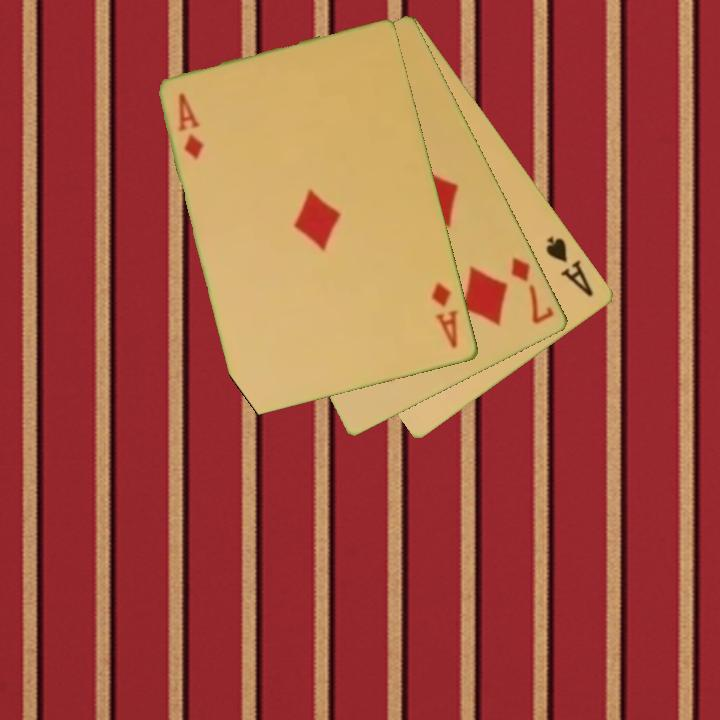7d: (508, 254, 558, 327)
Ad: (428, 279, 462, 352), (175, 89, 208, 163)
As: (543, 232, 597, 300)
